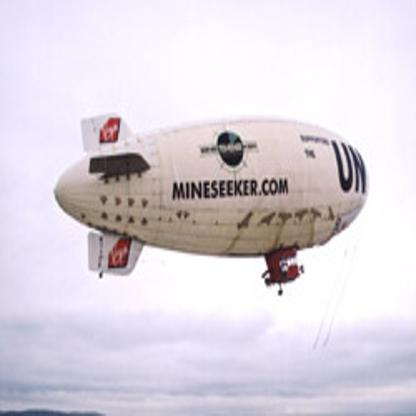Airship: (53, 113, 372, 297)
